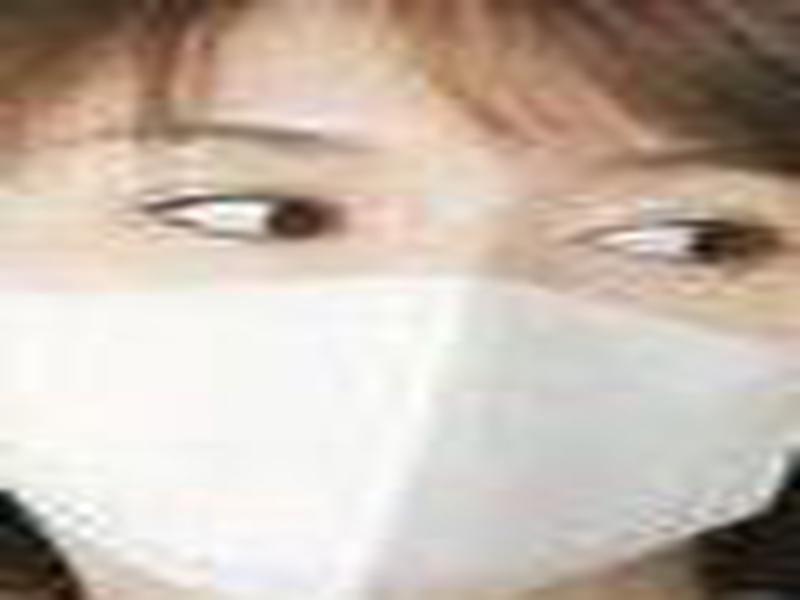with_mask: (1, 1, 795, 596)
